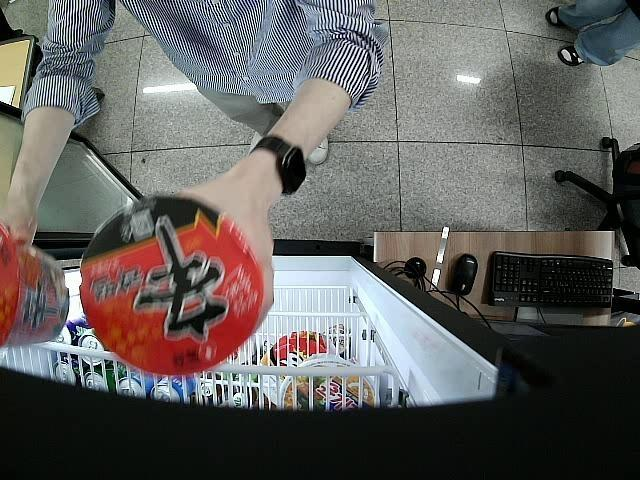01_ShinRamen_L: (81, 196, 262, 376), (0, 219, 70, 351)
